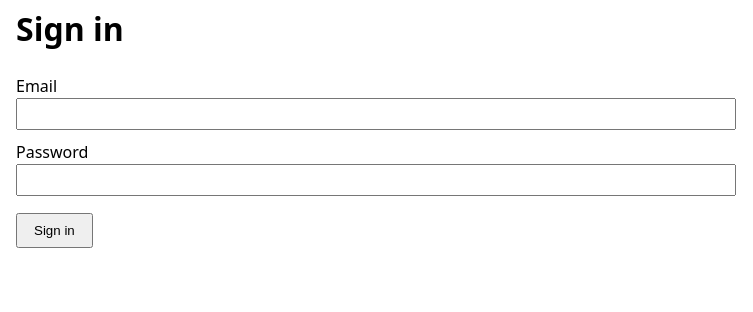
Test: App › shows an error on bad credentials and stays on login
The width and height of the screenshot is (753, 312).
Type "r@x.com" into the field labelled "Email". click: coordinates (376, 114)
box: [16, 98, 736, 130]
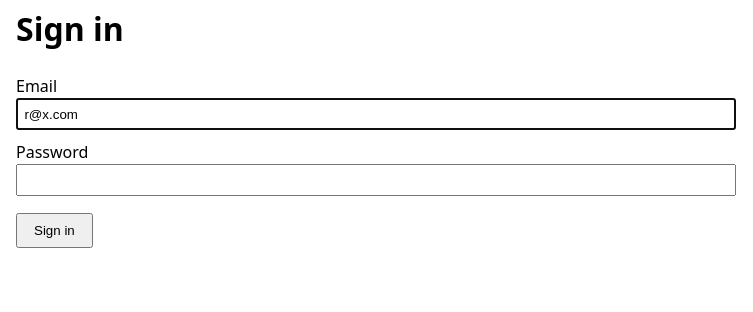
Type "wrong" into the password field labelled "Password". click: coordinates (376, 180)
box: [16, 164, 736, 196]
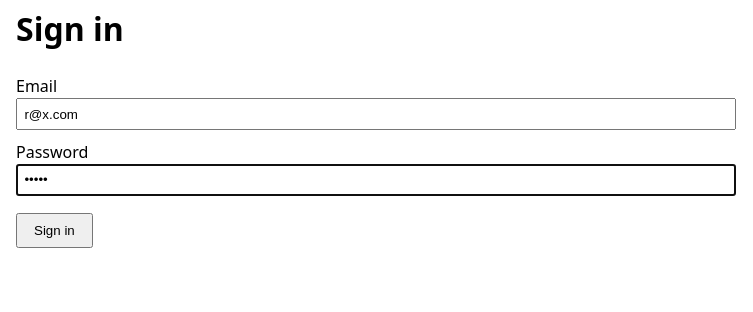
Submit the form named "Login form", box [16, 74, 736, 248]
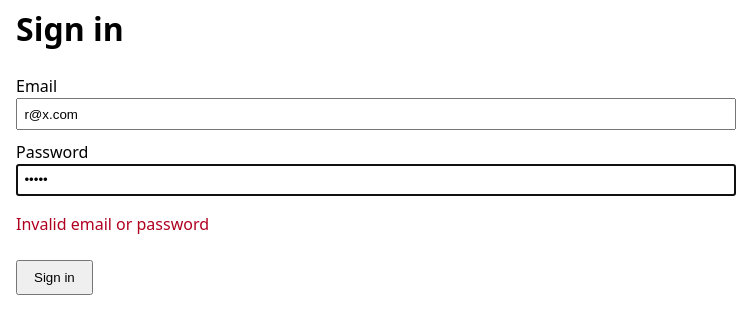
Expected: the message reads "Invalid email or password", [16, 213, 209, 235]
